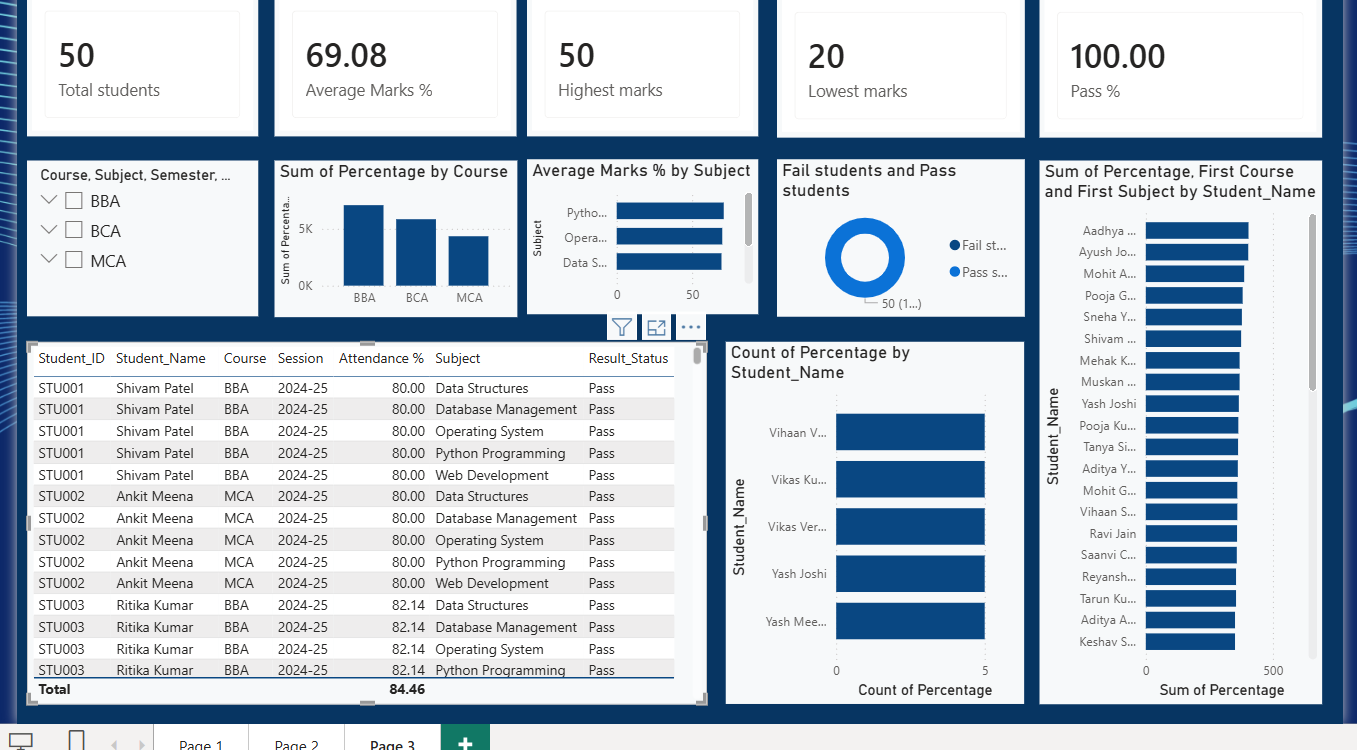

The dashboard page shown, as its layout file describes it:
{"tool":"powerbi","page":{"name":"Page 3","canvas":[1280,720],"ordinal":2},"visuals":[{"type":"cardVisual","fields":{"Data":["Attendance.Total students"]},"box":[9.4,14.8,223.2,138.5],"z":0},{"type":"cardVisual","fields":{"Data":["Marks.Pass %"]},"box":[987.1,16.1,273,138.5],"z":1000},{"type":"cardVisual","fields":{"Data":["Marks.Highest marks"]},"box":[492.2,14.8,223.2,138.5],"z":2000},{"type":"cardVisual","fields":{"Data":["Marks.Average Marks %"]},"box":[248.8,14.8,234,138.5],"z":3000},{"type":"barChart","fields":{"Category":["Marks.Subject"],"Y":["Marks.Average Marks %"]},"box":[492.2,174.8,223.2,149.3],"z":4000},{"type":"barChart","fields":{"Category":["Students.Student_Name"],"Y":["CountNonNull(Marks.Percentage)"]},"box":[684.5,351,287.8,349.7],"z":5000},{"type":"tableEx","fields":{"Values":["Students.Student_ID","Students.Student_Name","Students.Course","Marks.Subject","Attendance.Attendance %","Marks.Result_Status"]},"box":[0,351,672.4,349.7],"z":6000},{"type":"slicer","fields":{"Values":["Students.Course","Marks.Subject","Students.Semester","Students.Gender","Marks.Result_Status"]},"box":[9.4,176.2,223.2,150.6],"z":7000},{"type":"cardVisual","fields":{"Data":["Marks.Lowest marks"]},"box":[732.9,16.1,239.4,138.5],"z":8000},{"type":"donutChart","fields":{"Y":["Marks.Fail students","Marks.Pass students"]},"box":[732.9,174.8,239.4,152],"z":9000},{"type":"barChart","fields":{"Category":["Students.Student_Name"],"Y":["Sum(Marks.Percentage)"]},"box":[987.1,176.2,273,524.5],"z":10000},{"type":"lineClusteredColumnComboChart","fields":{"Category":["Students.Course"],"Y":["Sum(Marks.Percentage)"]},"box":[249,176,234,151],"z":11000}]}

Visuals, with their boxes in screenshot pixels (x1, y1, x2, y2):
cardVisual - Attendance.Total students: [31, 0, 260, 136]
cardVisual - Marks.Pass %: [1034, 0, 1314, 137]
cardVisual - Marks.Highest marks: [526, 0, 755, 136]
cardVisual - Marks.Average Marks %: [277, 0, 517, 136]
barChart - Marks.Subject x Marks.Average Marks %: [526, 158, 755, 311]
barChart - Students.Student_Name x CountNonNull(Marks.Percentage): [724, 339, 1019, 698]
tableEx - Students.Student_ID x Students.Student_Name: [21, 339, 711, 698]
slicer - Students.Course x Marks.Subject: [31, 160, 260, 314]
cardVisual - Marks.Lowest marks: [773, 0, 1019, 137]
donutChart - Marks.Fail students x Marks.Pass students: [773, 158, 1019, 314]
barChart - Students.Student_Name x Sum(Marks.Percentage): [1034, 160, 1314, 698]
lineClusteredColumnComboChart - Students.Course x Sum(Marks.Percentage): [277, 159, 517, 314]
